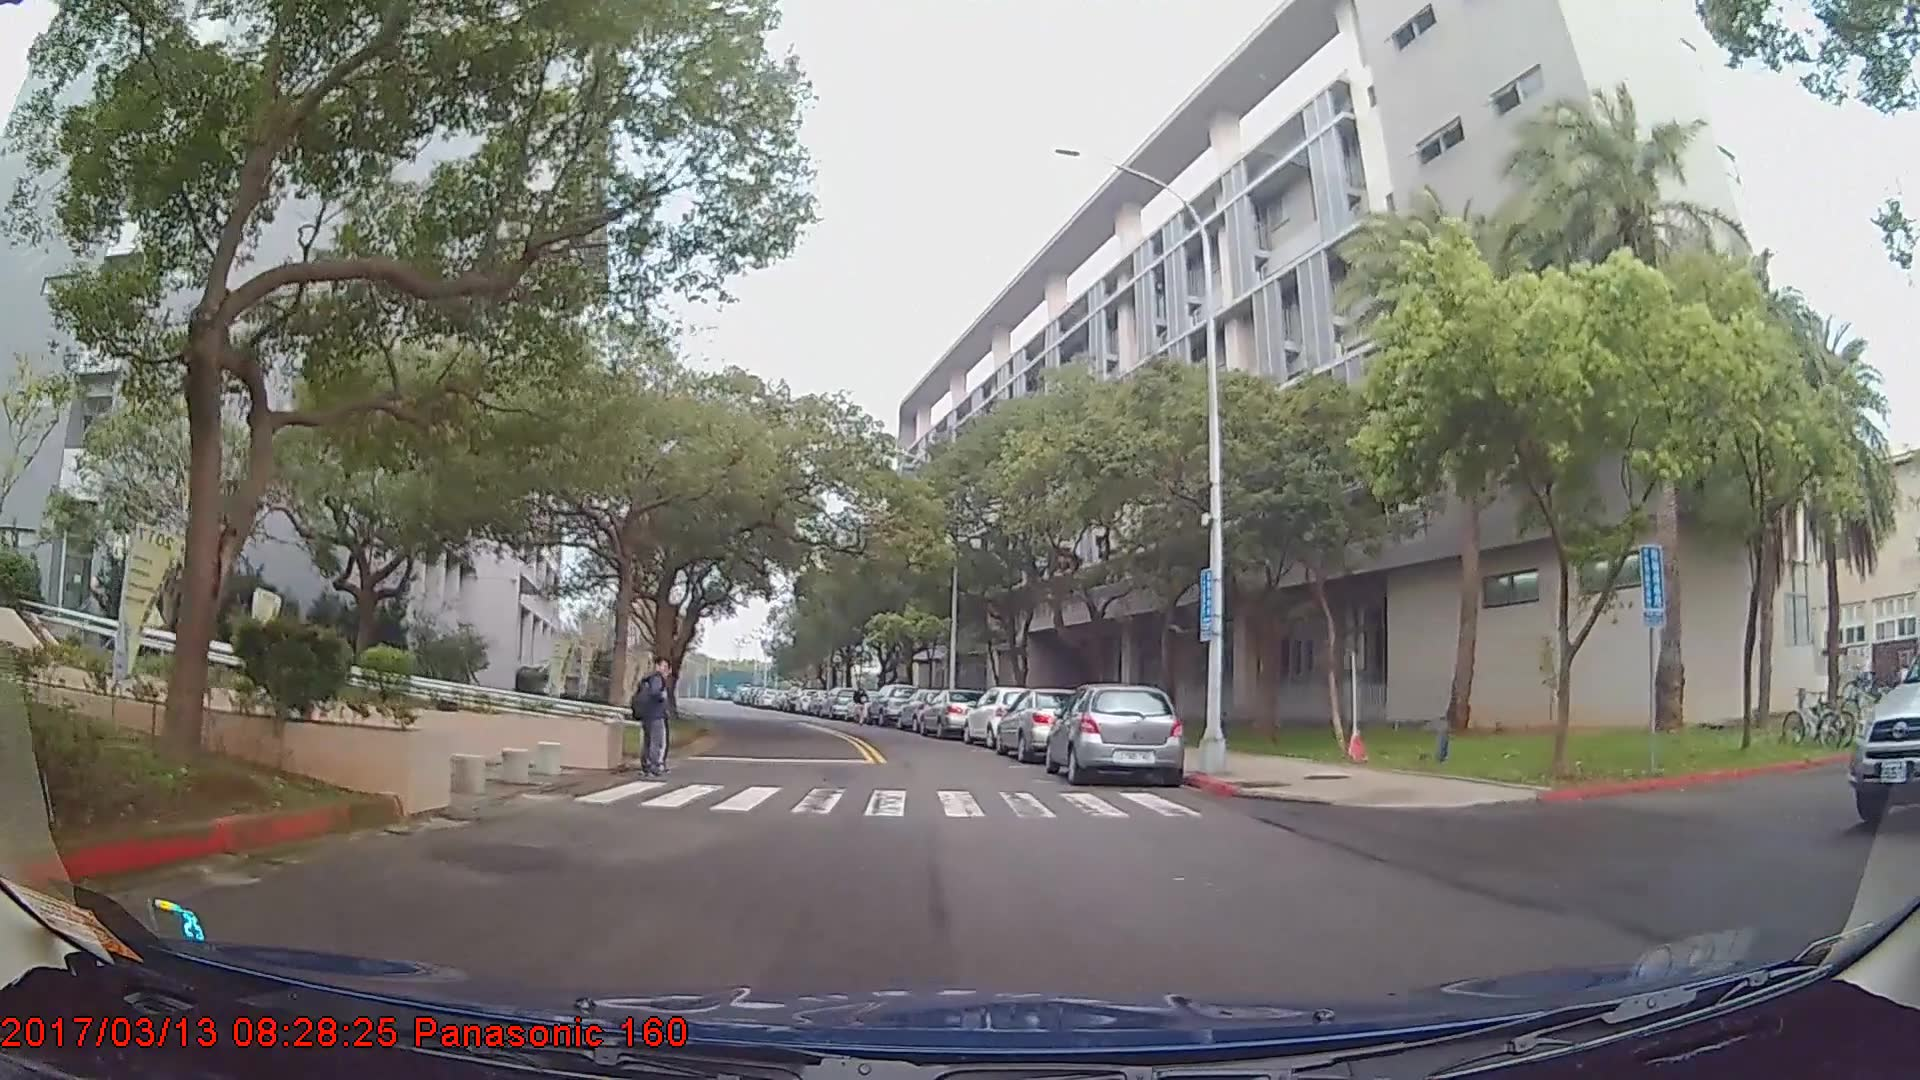pedestrian: (636, 656, 680, 783), (853, 683, 873, 727)
vehicle: (1045, 680, 1182, 785), (1849, 647, 1920, 826), (992, 687, 1089, 761), (962, 684, 1049, 748), (917, 686, 987, 738), (866, 680, 920, 725)
